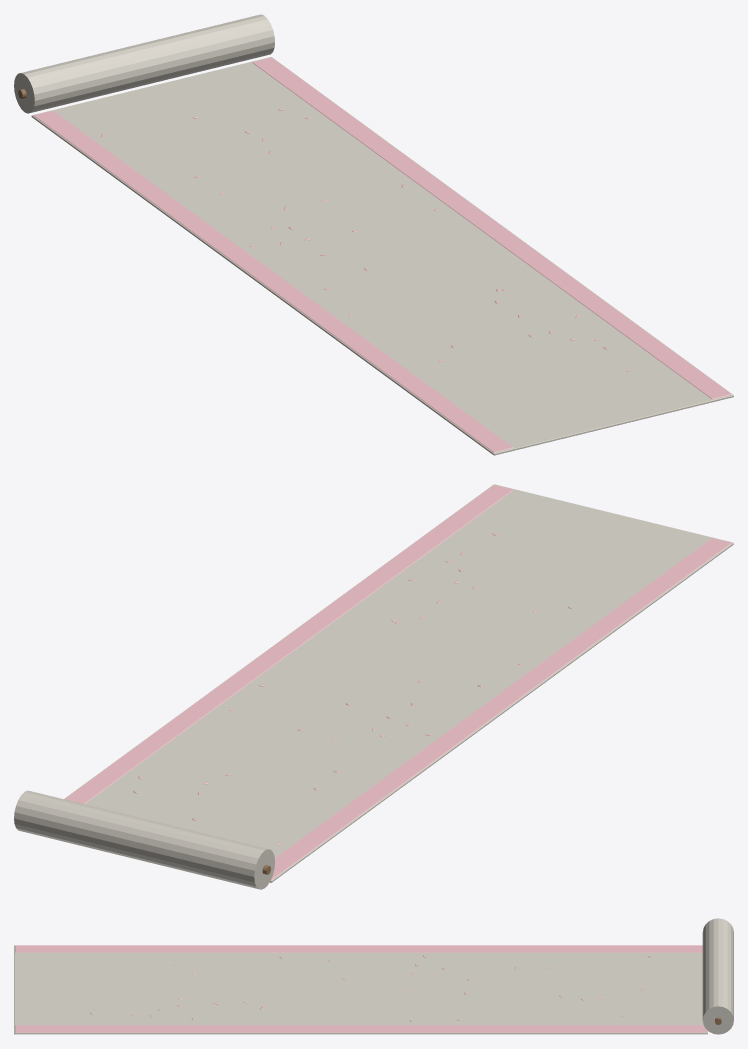
The model's file is wedding-and-chapel-kit-aisle-runner-452b83a5__39410.glb.
The picture shows the model from 3 angles, top to bottom: view 1: azimuth 30°, elevation 25°; view 2: azimuth 150°, elevation 25°; view 3: azimuth 270°, elevation 25°; orthographic projection. The views are drawn at different scales.
Visible parts, largest first — view 1: aisle-runner; view 2: aisle-runner; view 3: aisle-runner.
Part boxes in pixels (left/top/right/bottom): aisle-runner: left=14, top=14, right=733, bottom=455; aisle-runner: left=14, top=484, right=733, bottom=889; aisle-runner: left=14, top=918, right=733, bottom=1034.
Size of the model in its own units: 1.24 by 0.18 by 4.15.
